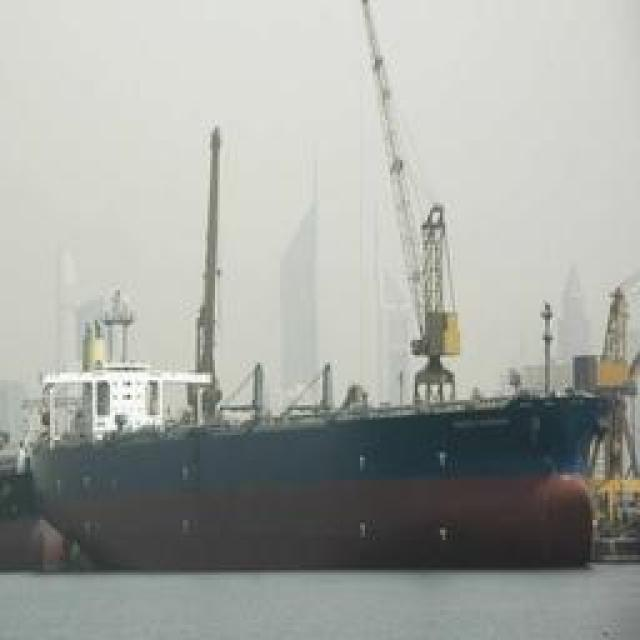CIV_Ship: (20, 368, 635, 574)
